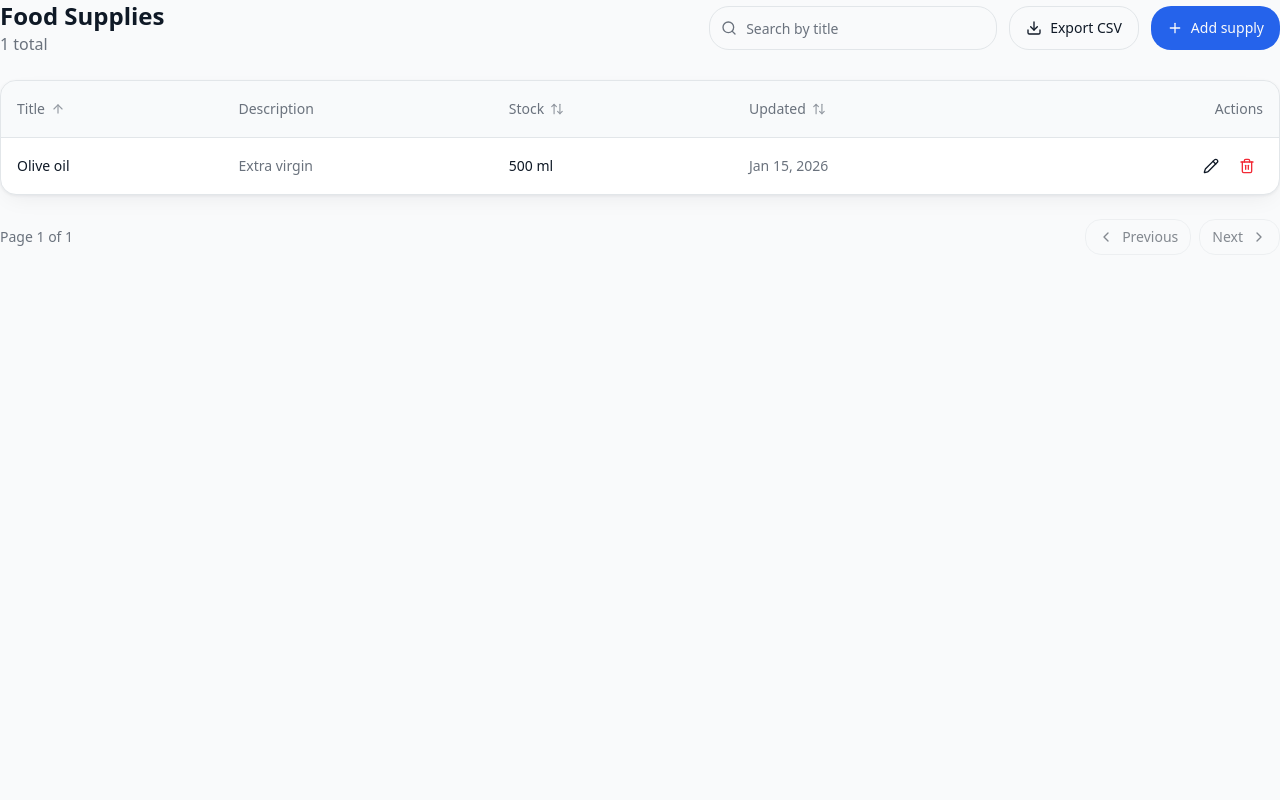
Test: AdminFoodSuppliesPage › creates a supply from the dialog
The width and height of the screenshot is (1280, 800).
Expected: the text "Olive oil" is shown, top-left (17, 156), bottom-right (70, 176)
Click the button "Add supply" at (1215, 28), box top-left (1151, 6), bottom-right (1279, 50)
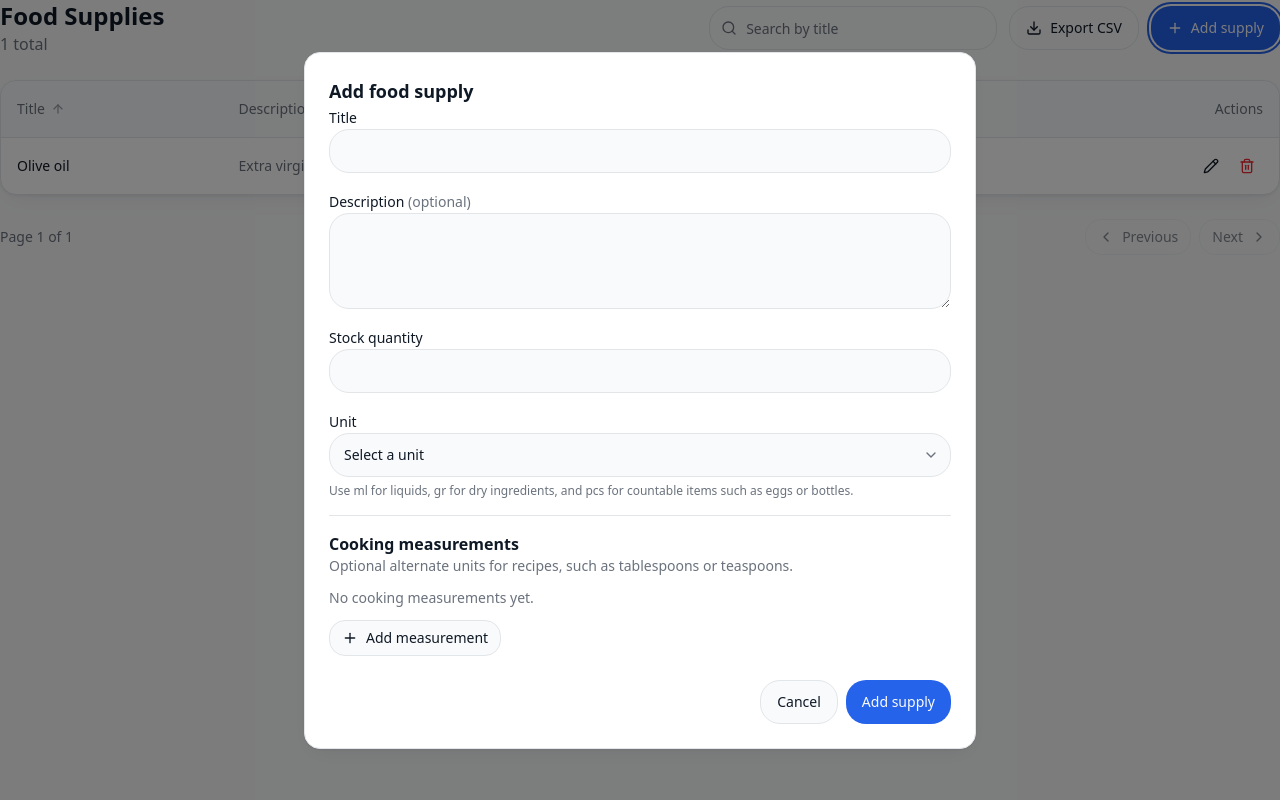
Result: the dialog is shown at top-left (304, 52), bottom-right (976, 748)
Type "Tomato Sauce" into the field labelled "Title" at (640, 150), box top-left (329, 128), bottom-right (951, 172)
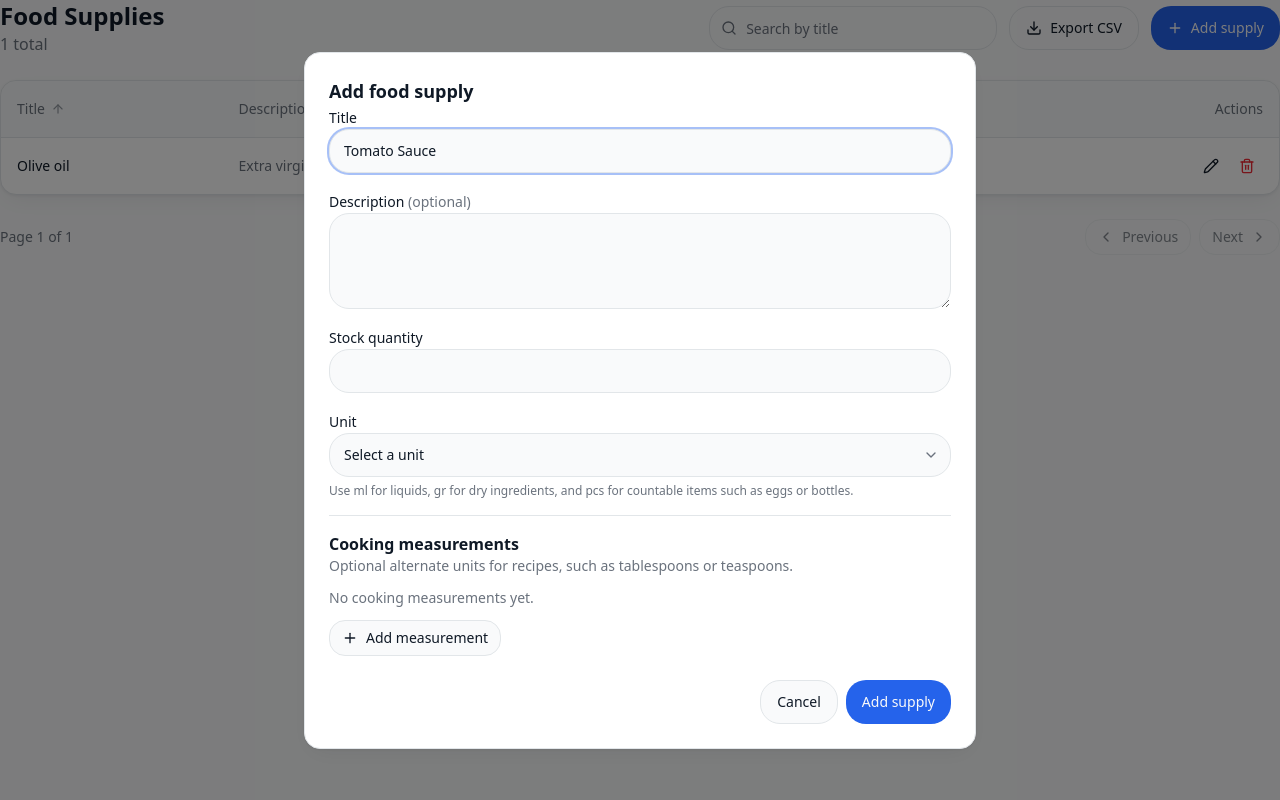
Type "House recipe" into the text box labelled "Description (optional)" at (640, 260), box top-left (329, 212), bottom-right (951, 308)
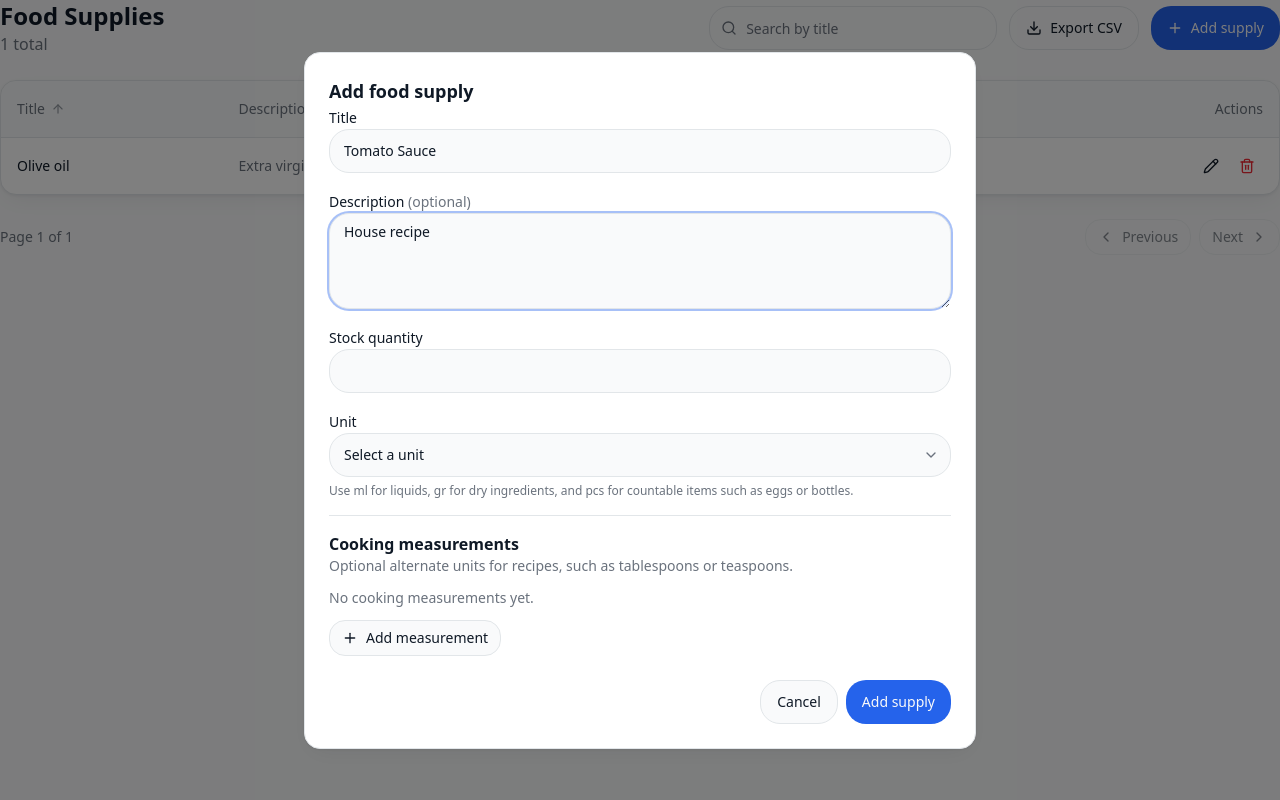
Type "750" into the number field labelled "Stock quantity" at (640, 370), box top-left (329, 348), bottom-right (951, 392)
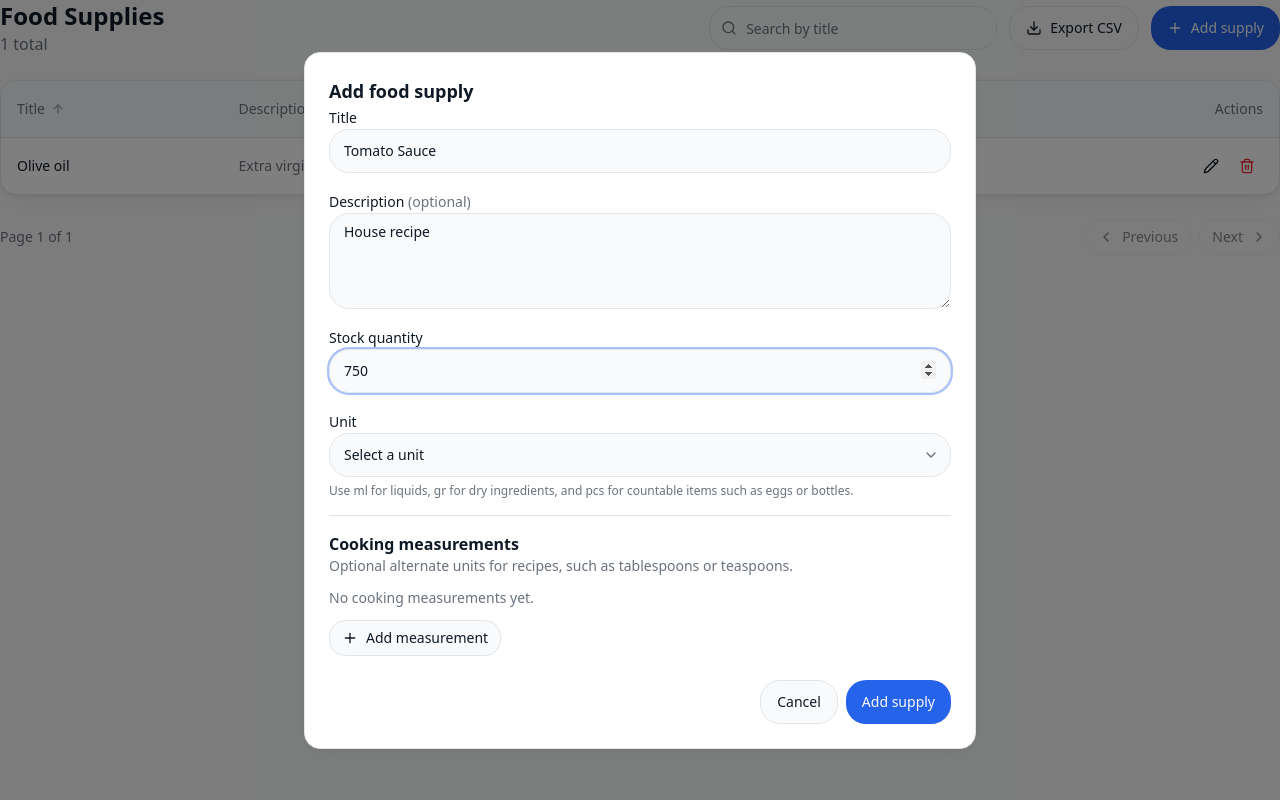
Select "ml" in the dropdown labelled "Unit" at (640, 454), box top-left (329, 432), bottom-right (951, 476)
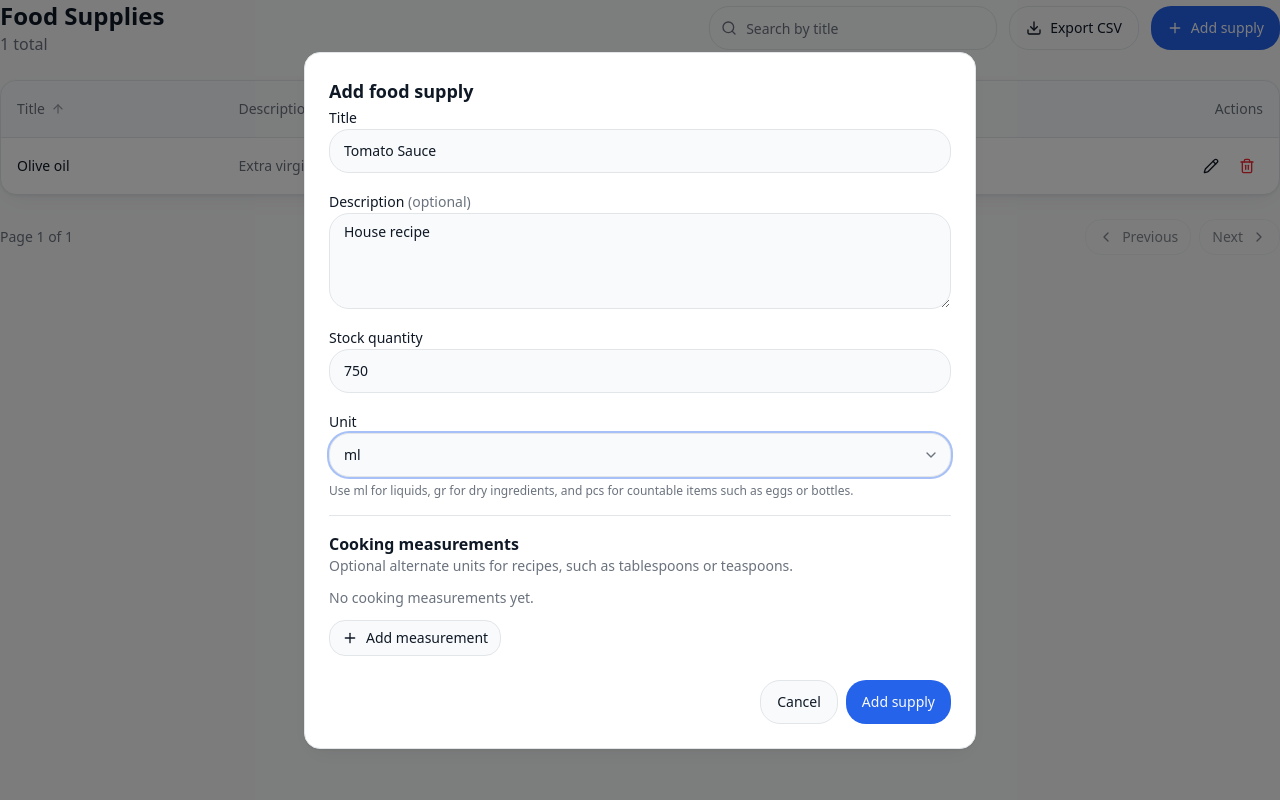
Click the button "Add supply" at (898, 702), box top-left (846, 680), bottom-right (951, 724)
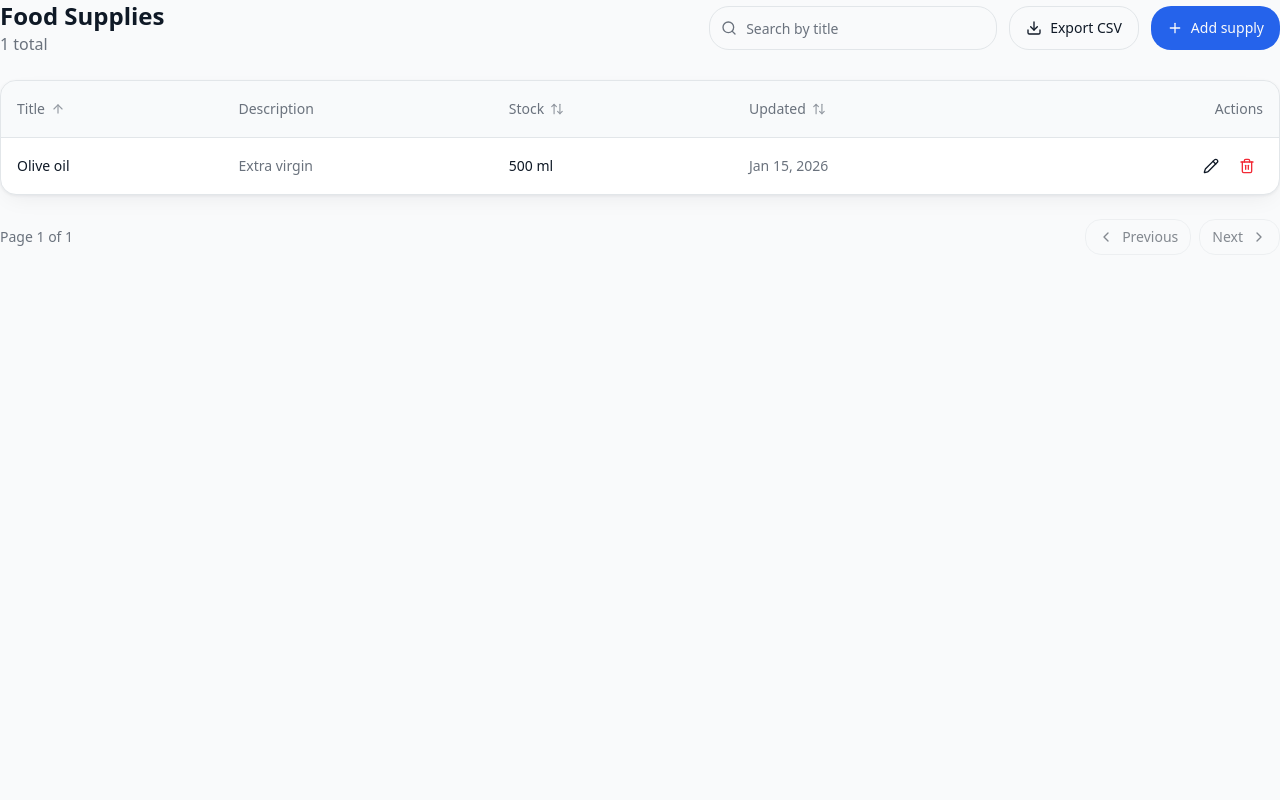
Result: the dialog is gone
